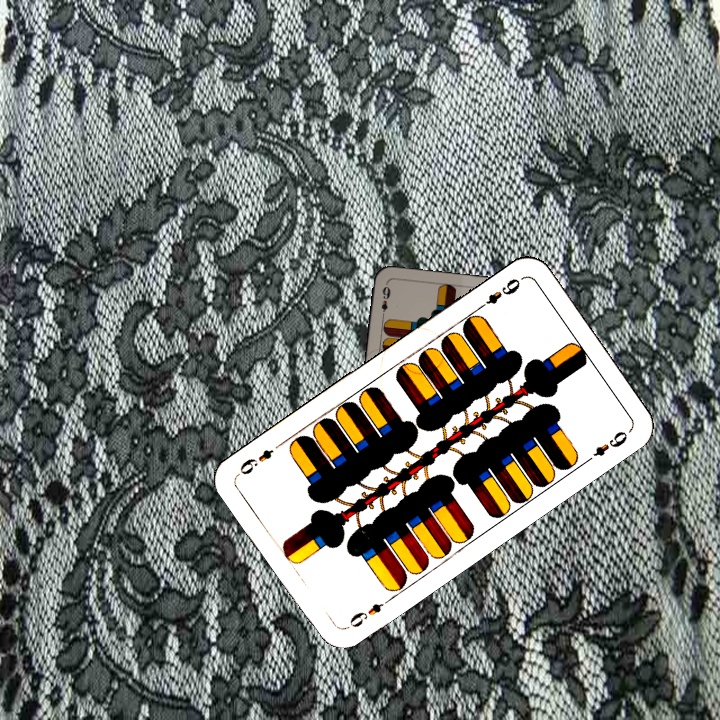E9: (473, 273, 525, 313), (342, 593, 394, 632), (377, 282, 393, 321)
